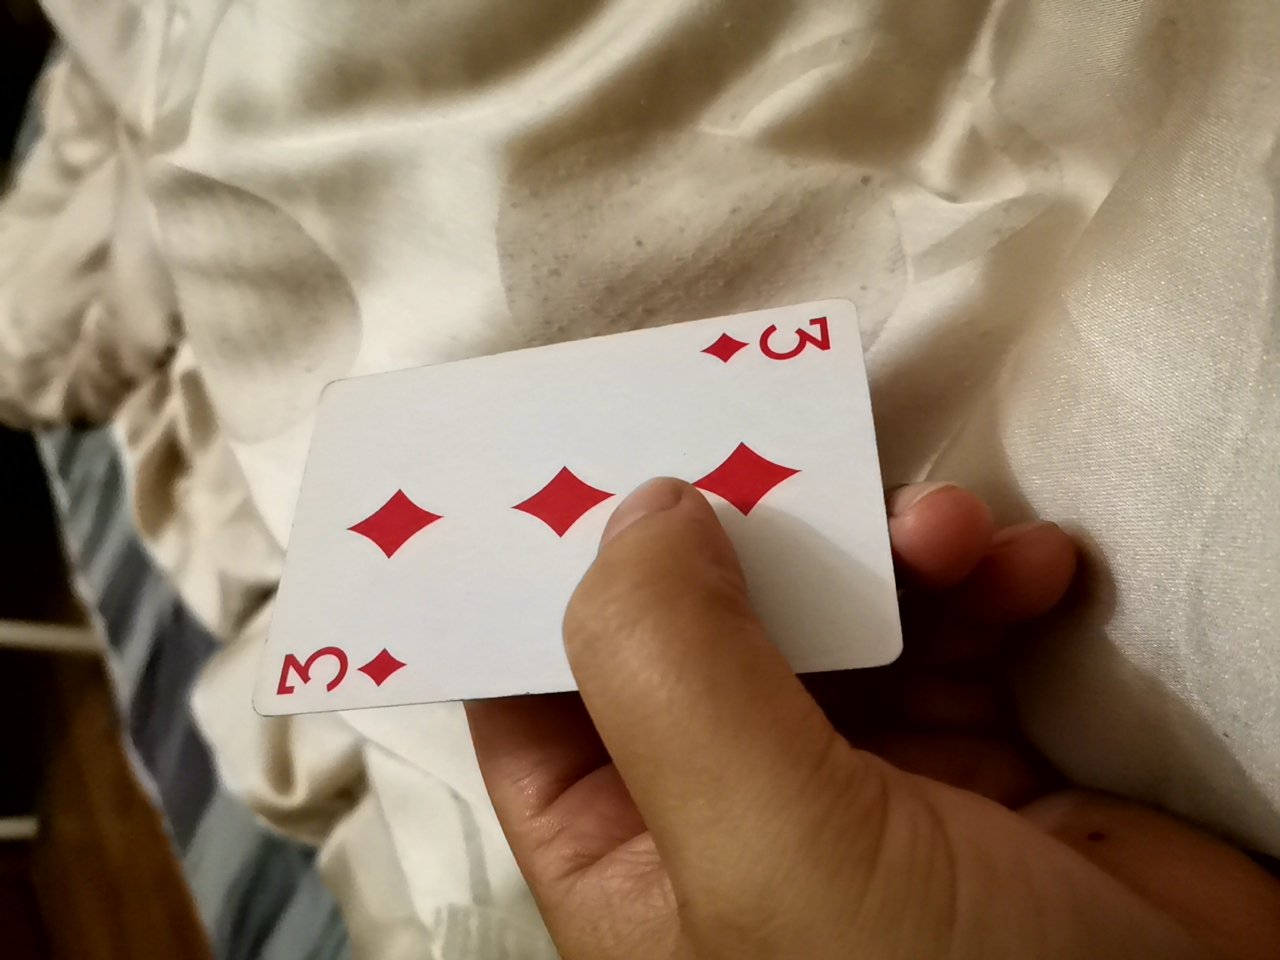fk 3: (217, 269, 918, 751)
